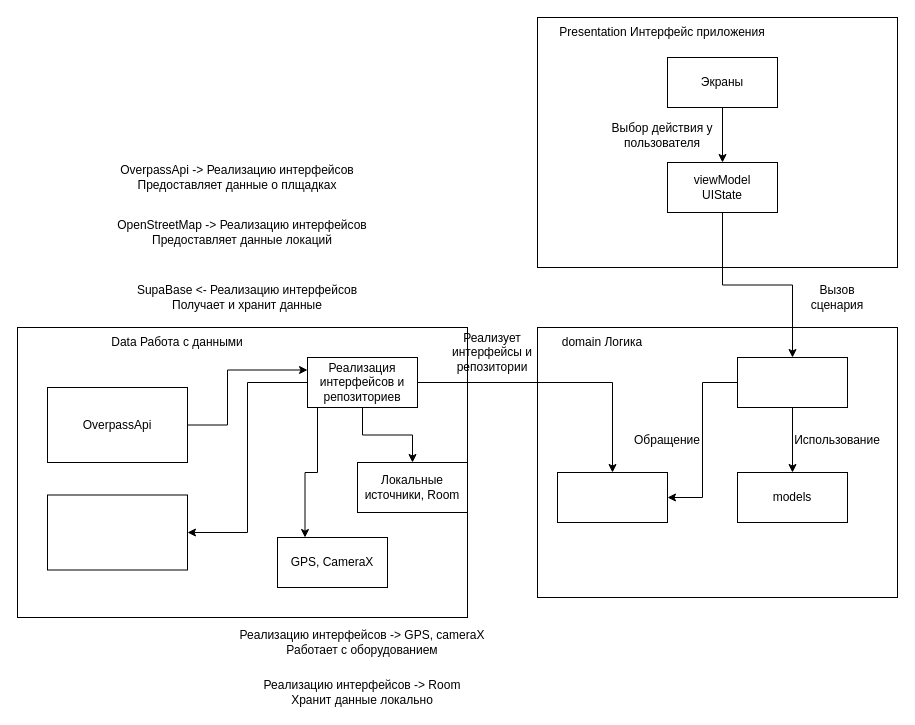
The diagram is 915 pixels wide and 725 high, and some of its shapes have lost their labels. The shapes that lost their labels are listed below. From the top down, each one's box as (x1, y1, x2, y2) in pixels, then its label:
(736, 356, 848, 408): usecase
(556, 472, 668, 522): interface, repository, gps, camera
(46, 494, 188, 570): Supabase
